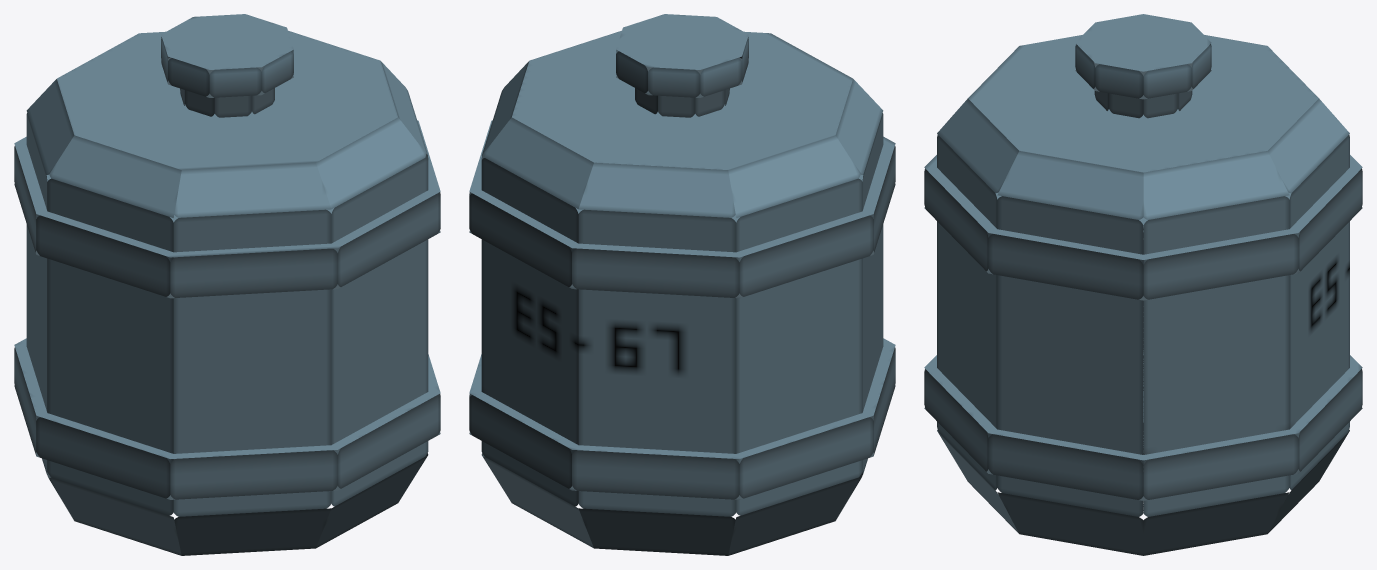
Rendered from Energy_Storage.fbx.
3 views of the same model, side by side, from view 1: azimuth 30°, elevation 25°; view 2: azimuth 150°, elevation 25°; view 3: azimuth 270°, elevation 25° (orthographic).
Visible parts, largest first — view 1: Cylinder.001; view 2: Cylinder.001; view 3: Cylinder.001.
Part boxes in pixels (box(x1,y1,x2,y2)): Cylinder.001: box(14, 14, 440, 555); Cylinder.001: box(469, 14, 895, 555); Cylinder.001: box(924, 14, 1362, 555).
Size of the model in its own units: 265 by 292 by 265.
